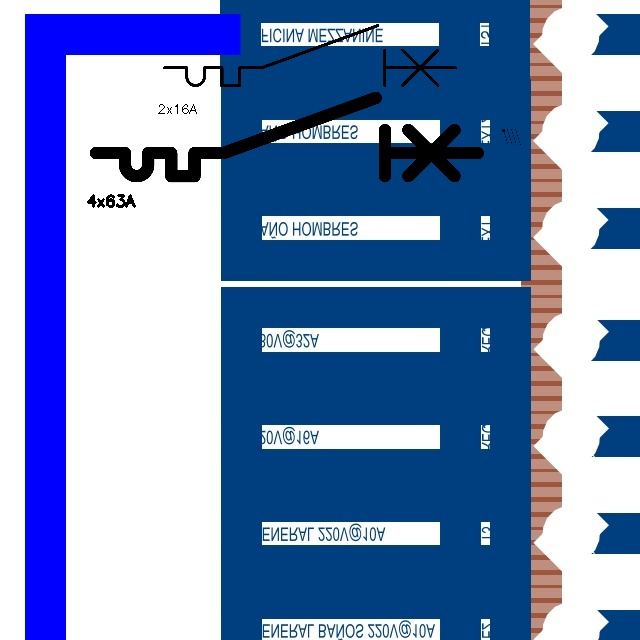interruptor_termomagnetico: (86, 88, 487, 186), (157, 18, 463, 93)
